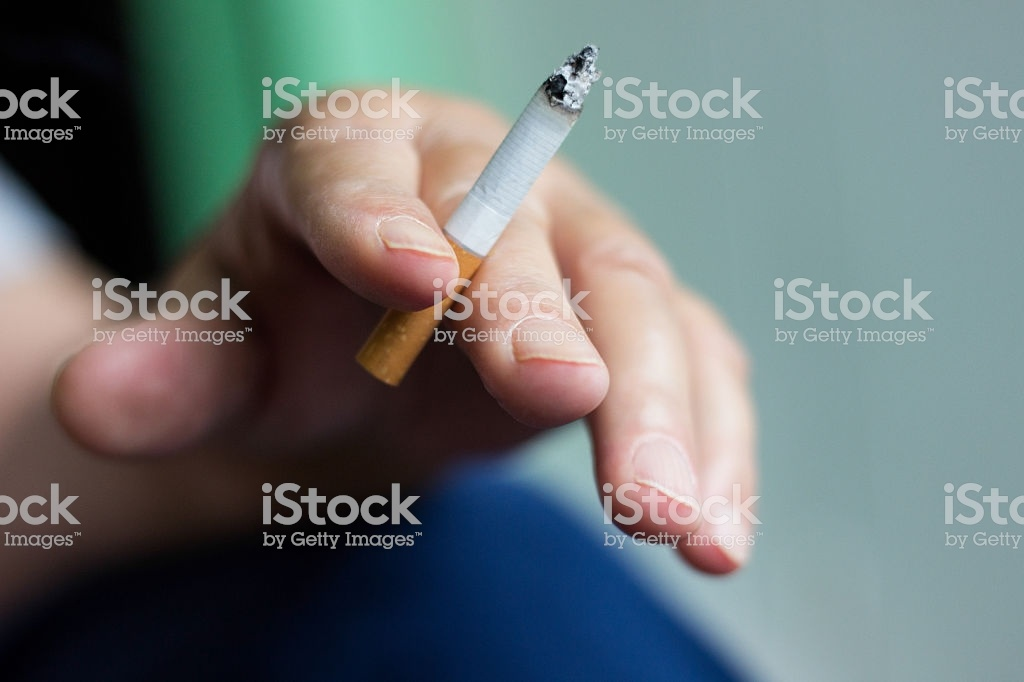sigaretta: (373, 43, 596, 384)
